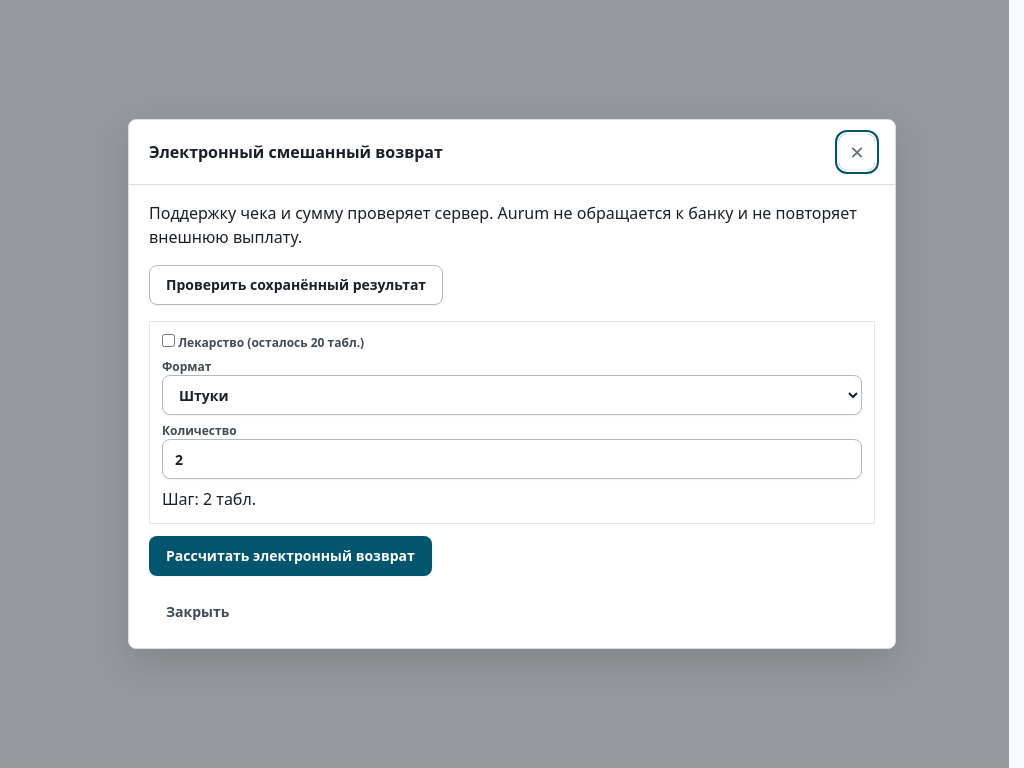
Test: cashier electronic refund form › invalidates quote after editing selection
Expected: the field named "Количество: Лекарство" is shown, [162,439,862,479]
Click the checkbox: (168, 340) [162,334,175,347]
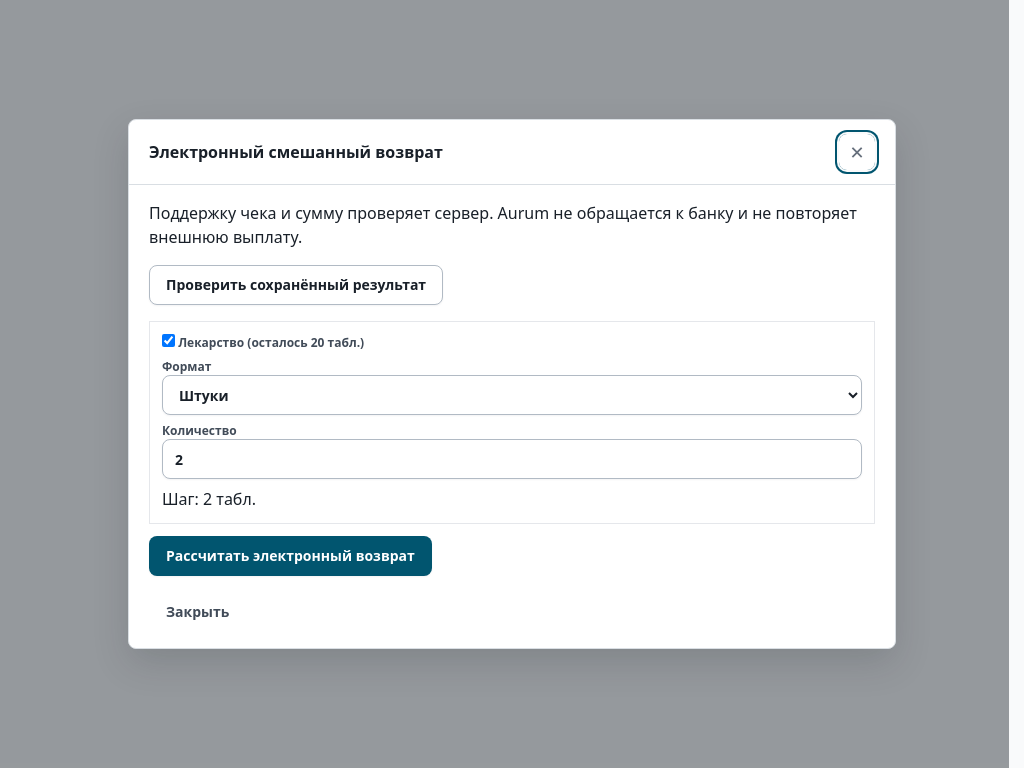
Click the button "Рассчитать электронный возврат": (290, 556) [149,536,432,576]
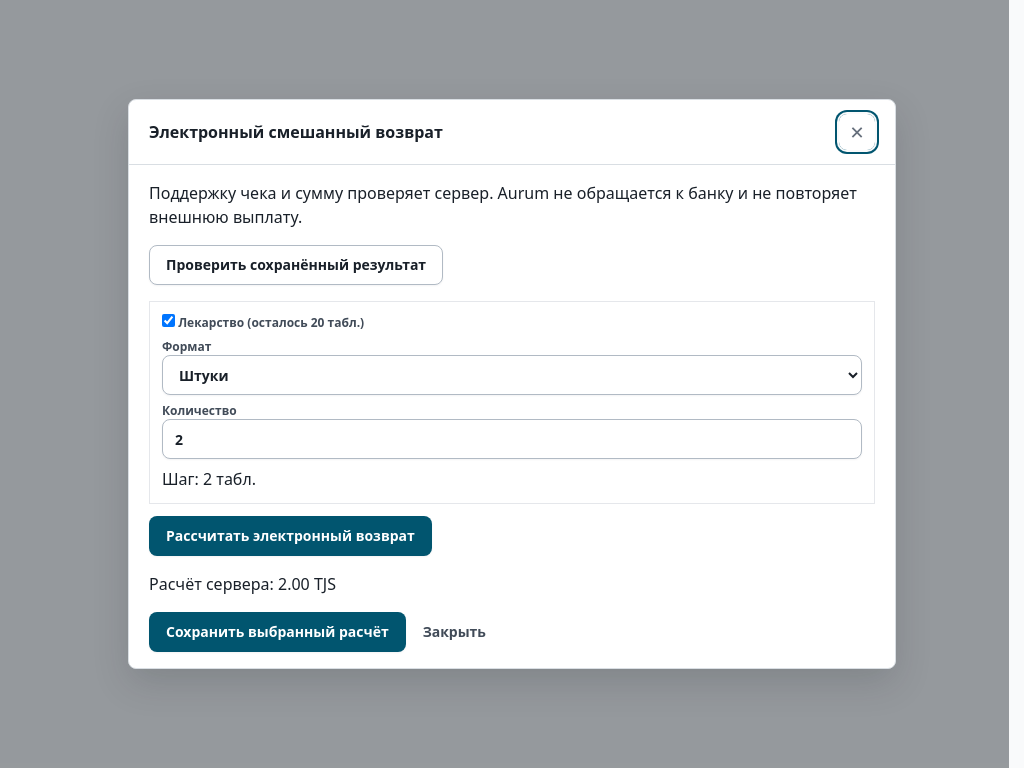
Now the text "Расчёт сервера: 2.00 TJS" is shown, box [149,573,336,595]
Replace the text in the field named "Количество: Лекарство" with "4": (512, 439) [162,419,862,459]
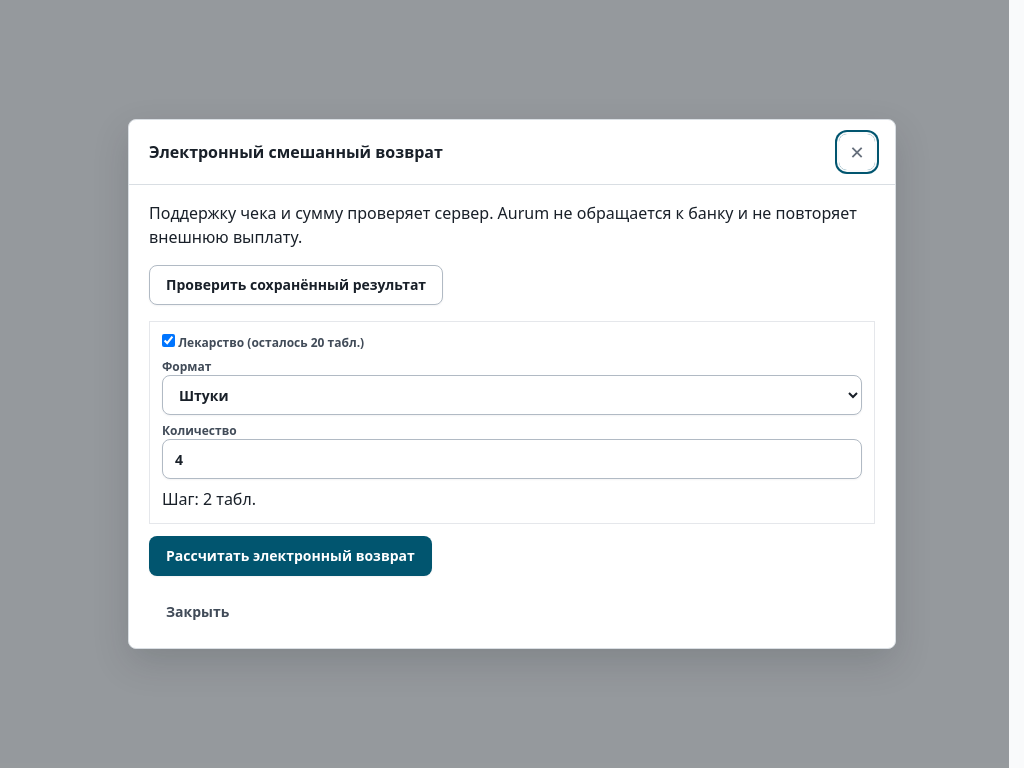
Now the button "Сохранить выбранный расчёт" is gone
